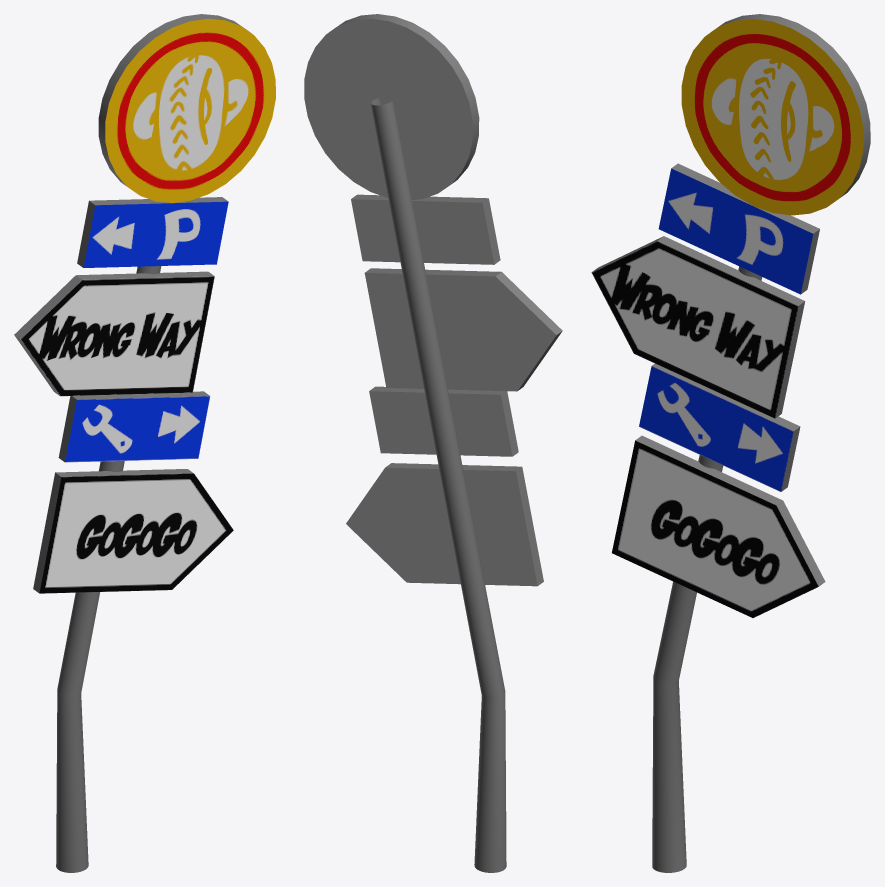
File: 표지판2.fbx
3 renders of one model, left to right at view 1: azimuth 30°, elevation 25°; view 2: azimuth 150°, elevation 25°; view 3: azimuth 330°, elevation 25°, orthographic. The views are drawn at different scales.
Visible parts, largest first — view 1: 2; view 2: 2; view 3: 2.
Part boxes in pixels (<box>): 2: <box>14,14,275,872</box>; 2: <box>304,14,562,872</box>; 2: <box>591,14,870,872</box>.
Bounding box in the file's own units: 1146 × 3545 × 146.
Materials: 1 (1 with a texture image).
